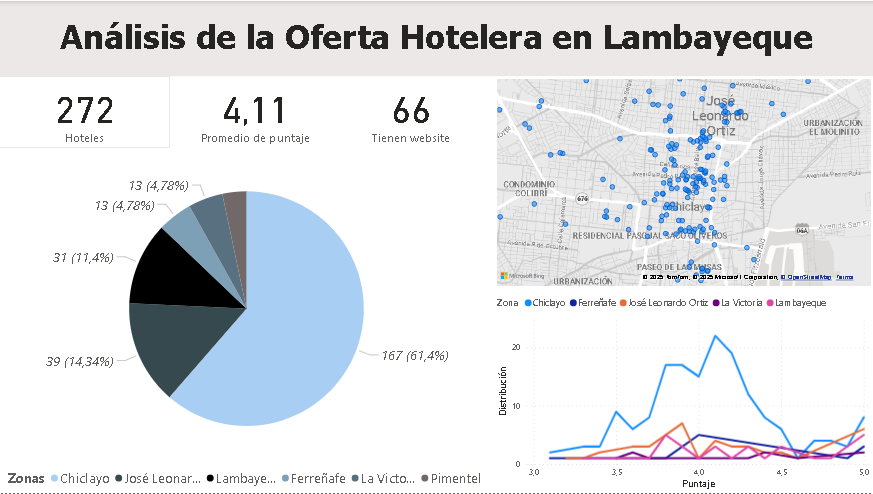

Layout of this report page (visuals, bound fields, positions):
{"tool":"powerbi","page":{"name":"Resultados","canvas":[1280,720],"ordinal":0},"visuals":[{"type":"map","fields":{"Y":["Data.location/lat"],"X":["Data.location/lng"]},"box":[724.4,109.8,556.1,311.7],"z":0},{"type":"textbox","box":[73,526,419,194],"z":1000},{"type":"pieChart","fields":{"Category":["Data.city"],"Y":["CountNonNull(Data.title)"]},"box":[0,215.1,724.4,504.9],"z":2000},{"type":"lineChart","fields":{"Category":["Data.totalScore"],"Y":["CountNonNull(Data.totalScore)"],"Series":["Data.city"]},"box":[724.4,421.5,556.1,298.5],"z":3000},{"type":"card","fields":{"Values":["CountNonNull(Data.city)"]},"box":[0,109.8,250.2,105.4],"z":4000},{"type":"card","fields":{"Values":["Avg(Data.totalScore)"]},"box":[250.2,109.8,250.2,105.4],"z":5000},{"type":"card","fields":{"Values":["CountNonNull(Data.website)"]},"box":[491.7,109.8,221,105.4],"z":6000},{"type":"textbox","box":[0,0,1280.5,109.8],"z":7000}]}

Visuals, with their boxes in screenshot pixels (x1, y1, x2, y2), scaled from the page's 1280x720 canvas onto the 873x494 screenshot:
map - Data.location/lat x Data.location/lng: bbox=(494, 75, 872, 289)
textbox: bbox=(50, 361, 336, 493)
pieChart - Data.city x CountNonNull(Data.title): bbox=(0, 148, 494, 493)
lineChart - Data.totalScore x CountNonNull(Data.totalScore): bbox=(494, 289, 872, 493)
card - CountNonNull(Data.city): bbox=(0, 75, 171, 148)
card - Avg(Data.totalScore): bbox=(171, 75, 341, 148)
card - CountNonNull(Data.website): bbox=(335, 75, 486, 148)
textbox: bbox=(0, 0, 872, 75)
